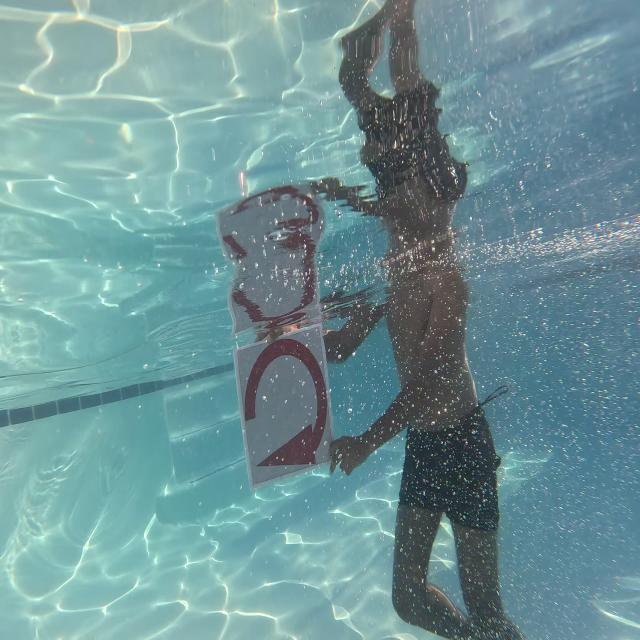red_side: (233, 322, 335, 472)
